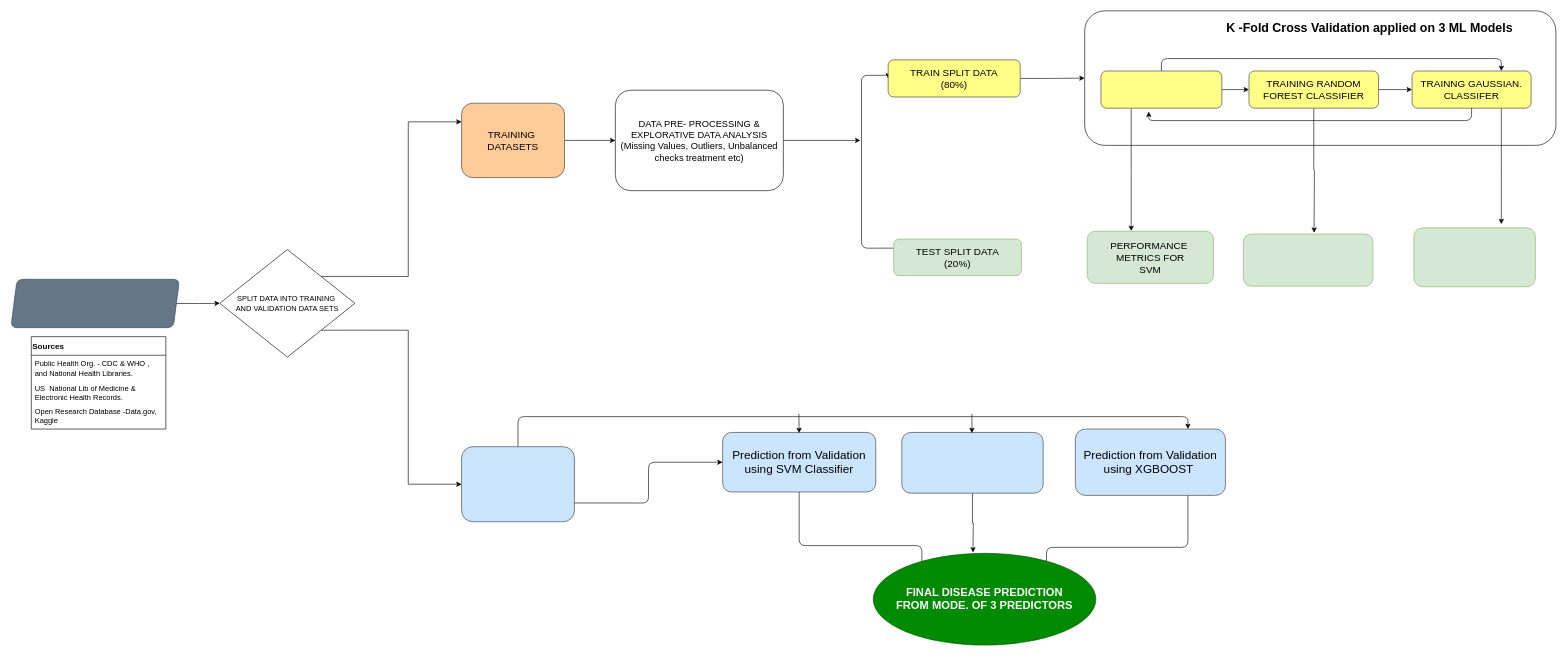
This 1567x656 diagram has some shape labels left out. The shapes that lost their labels are listed below. From the top down, each one's centre as x and y in pixels, then its label:
At [1161,89]: "TRAINING SVM CLASSIFIER".
At [1308,259]: "PERFORMANCE METRICS FOR RANDOM FOREST".
At [1474,257]: "PERFORMANCE METRICS FOR GUASSIAN/NAIVE".
At [94,303]: "SOURCE DATASETS FROM AUTHORIZED SOURCES".
At [972,462]: "Prediction from Validation using Random Forest Classifier".
At [517,484]: "VALIDATION DATASETS".
